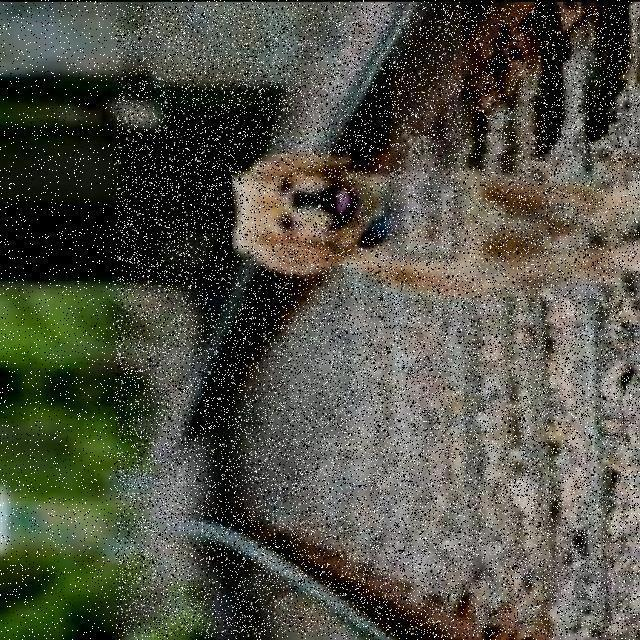rail: (117, 7, 640, 637)
